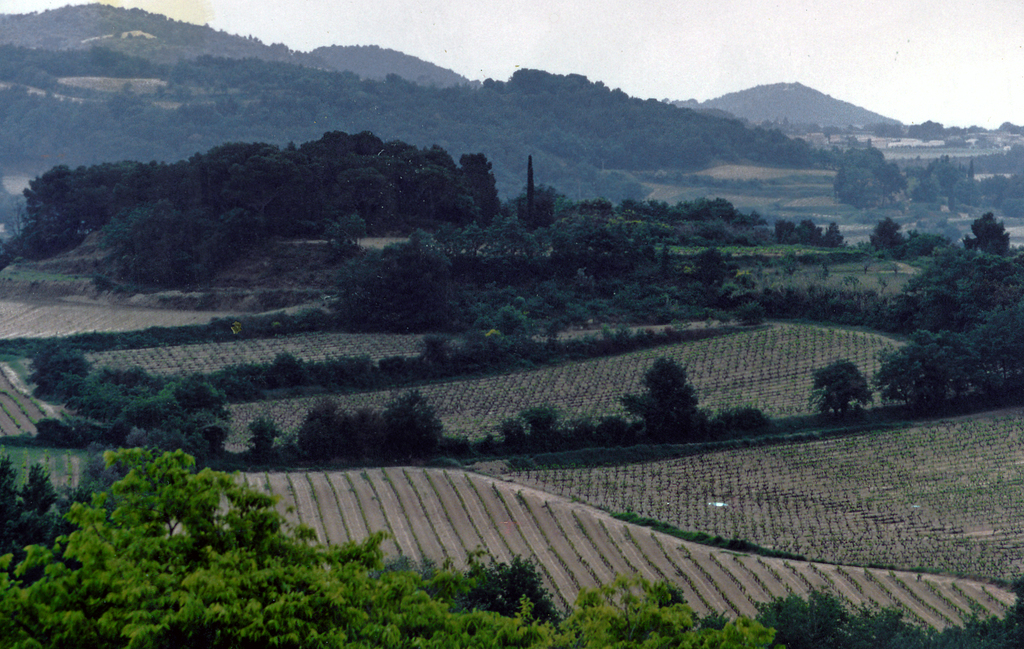Tree: (0, 54, 1024, 648)
